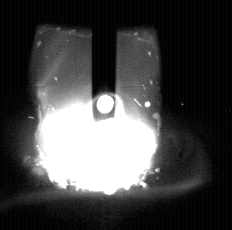arame: (93, 0, 117, 121)
poca: (38, 0, 154, 230)
